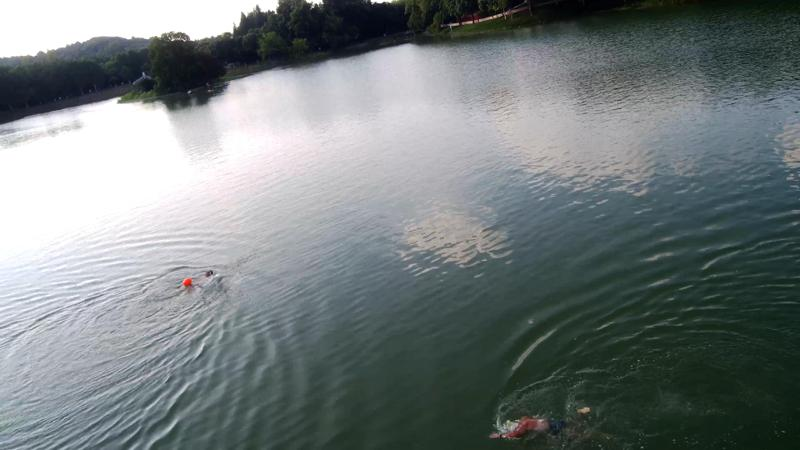swimmers: (489, 406, 594, 442)
